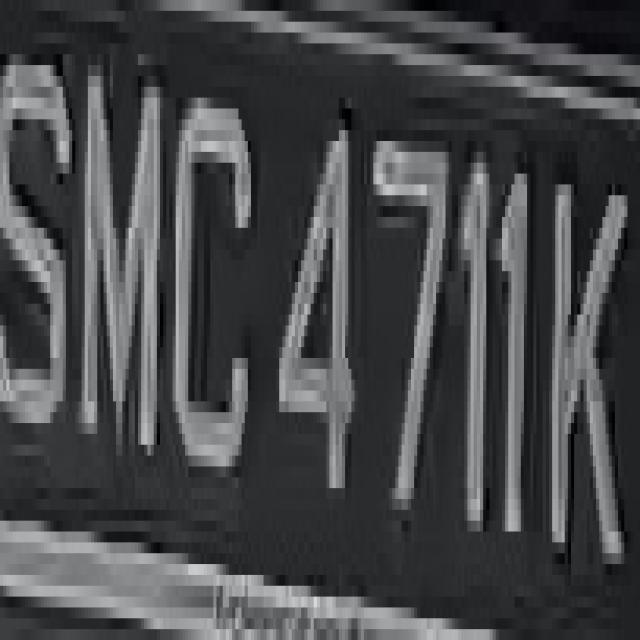1: (452, 98, 499, 564), (496, 98, 533, 586)
4: (273, 76, 358, 521)
7: (358, 98, 448, 553)
C: (169, 76, 248, 510)
K: (540, 130, 624, 597)
M: (69, 44, 173, 488)
S: (0, 33, 69, 477)
